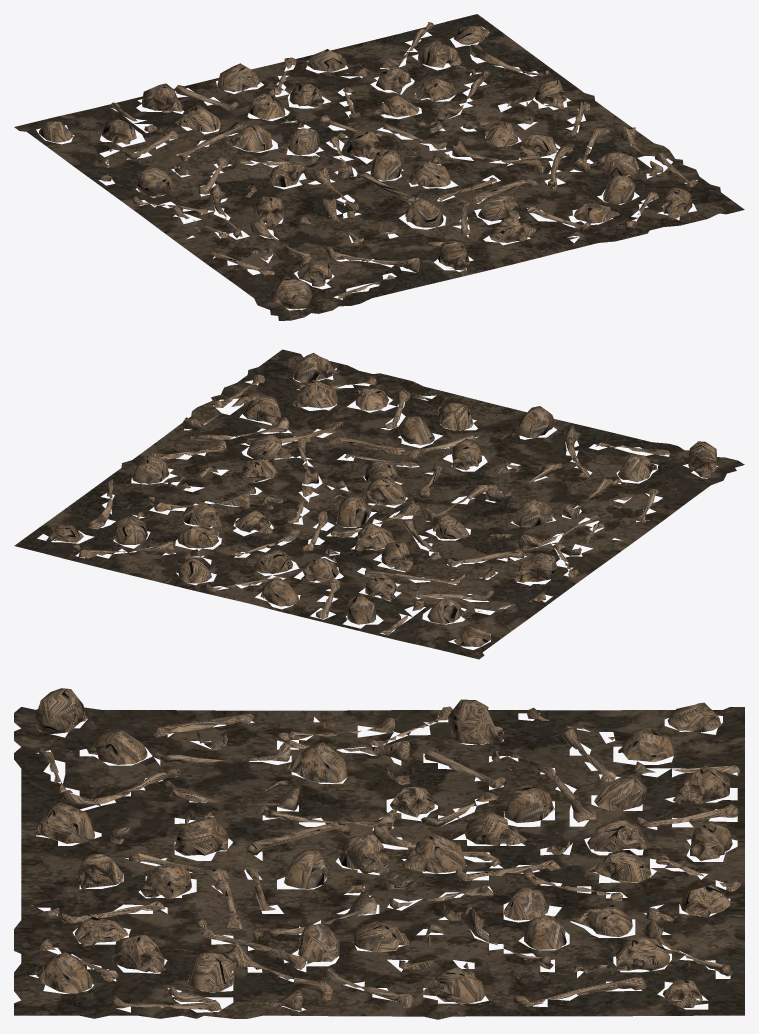
Rendered from ground.m.glb.
3 views of the same model, one above another, from view 1: azimuth 30°, elevation 25°; view 2: azimuth 150°, elevation 25°; view 3: azimuth 270°, elevation 25° (orthographic). The views are drawn at different scales.
Visible parts, largest first — view 1: BonesAndGround_Ground_0, BonesAndGround_Bones_0; view 2: BonesAndGround_Ground_0, BonesAndGround_Bones_0; view 3: BonesAndGround_Ground_0, BonesAndGround_Bones_0.
Part boxes in pixels (left/top/right/bottom): BonesAndGround_Ground_0: left=14, top=14, right=744, bottom=320; BonesAndGround_Bones_0: left=38, top=22, right=698, bottom=309; BonesAndGround_Ground_0: left=14, top=349, right=744, bottom=659; BonesAndGround_Bones_0: left=43, top=353, right=717, bottom=646; BonesAndGround_Ground_0: left=14, top=707, right=744, bottom=1019; BonesAndGround_Bones_0: left=31, top=688, right=741, bottom=1011.
Bounding box in the file's own units: 200 × 10.54 × 198.
Materials: 2 (2 with a texture image).
